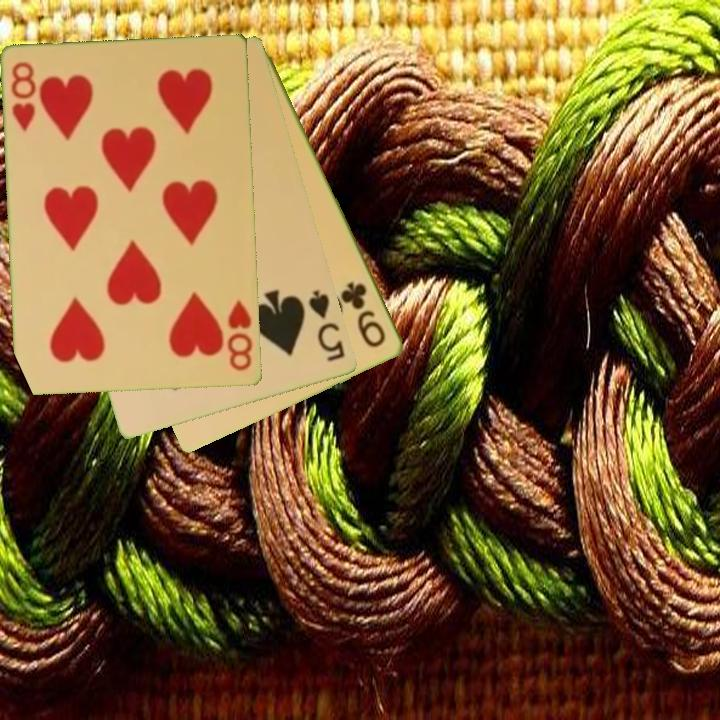5s: (305, 286, 349, 365)
8h: (224, 296, 256, 374), (8, 58, 39, 135)
9c: (340, 279, 389, 351)
